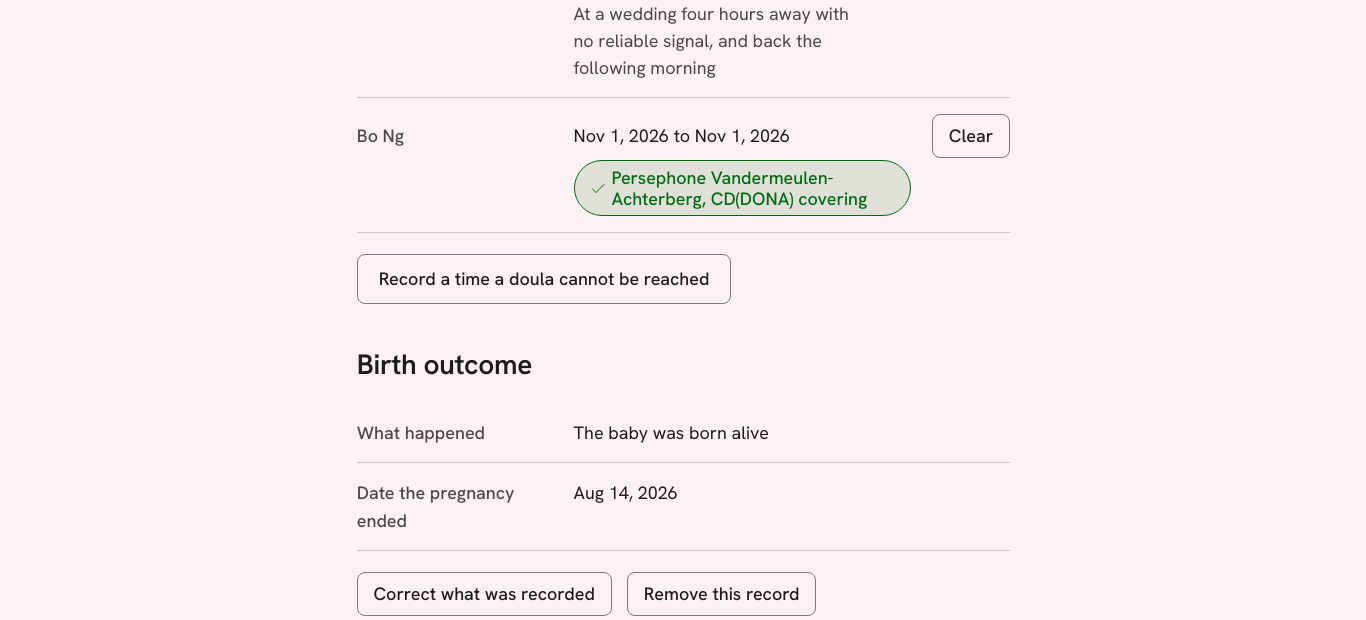
Scenario: the on-call section on a birth (#1093) › Doula who cannot be reached › refuses a gap with no Doula chosen, in the summary and against the field, and sends nothing
The width and height of the screenshot is (1366, 620).
(page scrolled)
Click the button "Record a time a doula cannot be reached" at (544, 279), box [357,254,731,304]
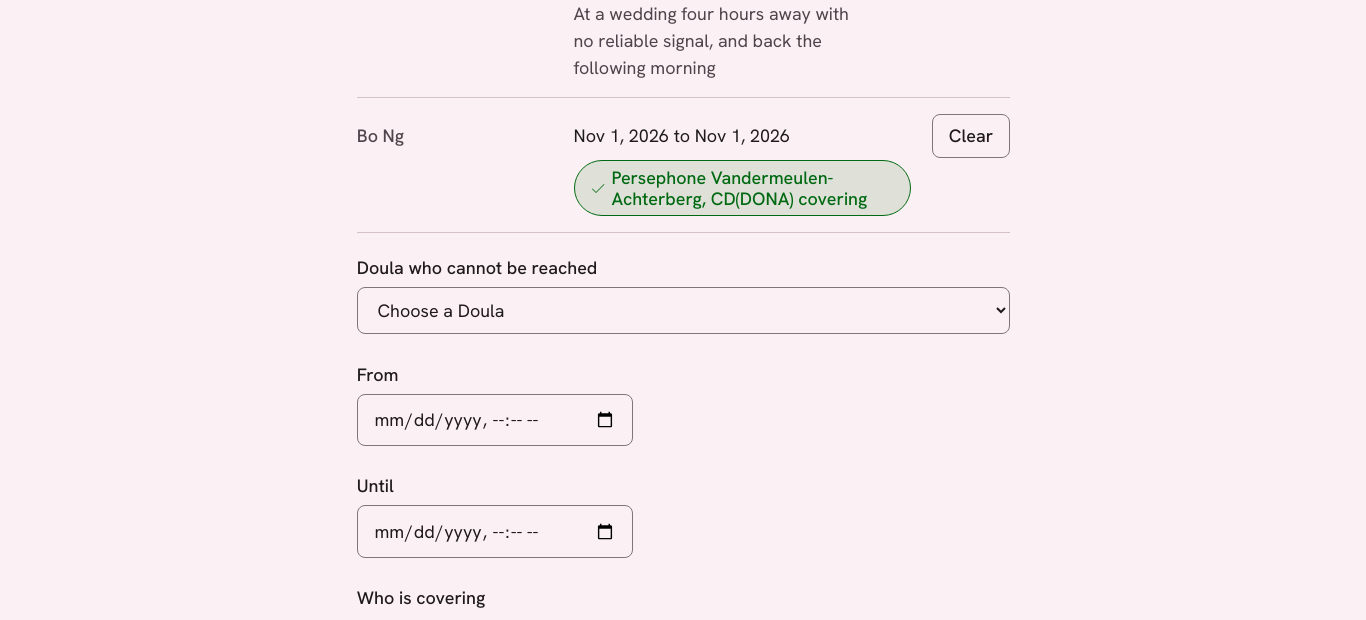
Type "2026-10-20T22:00" into the field labelled "From" at (495, 420), box [357,394,633,446]
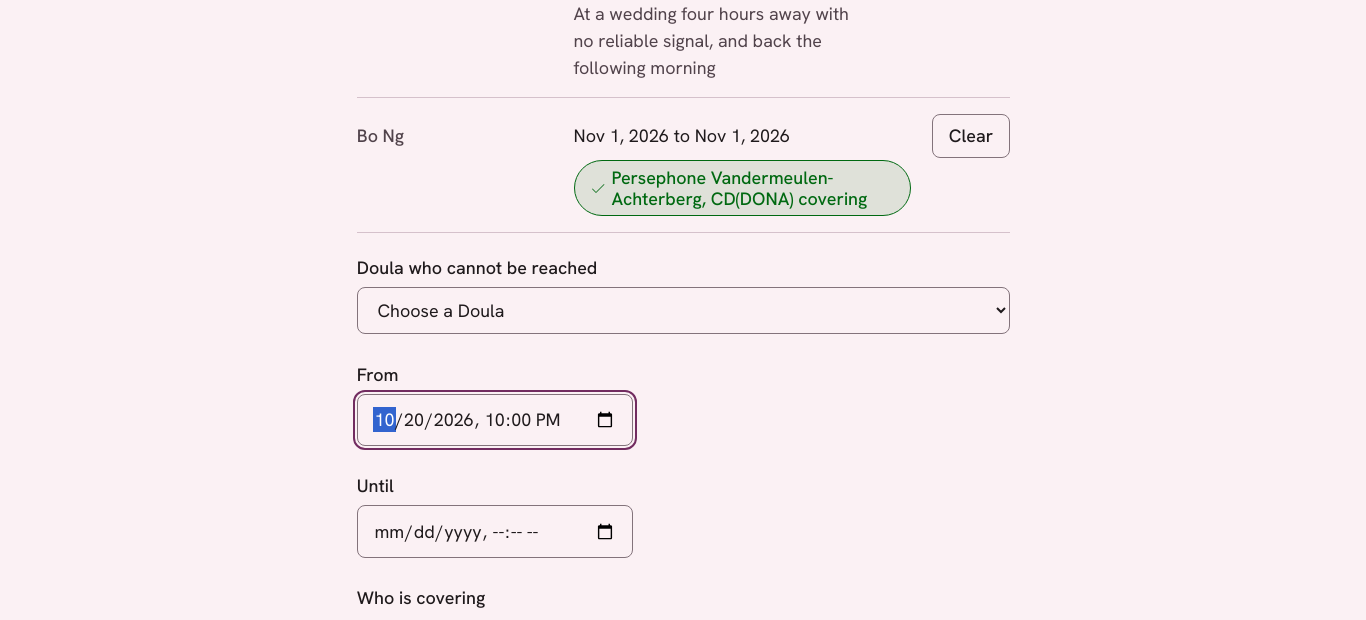
Type "2026-10-21T08:00" into the field labelled "Until" at (495, 532), box [357,505,633,558]
(page scrolled)
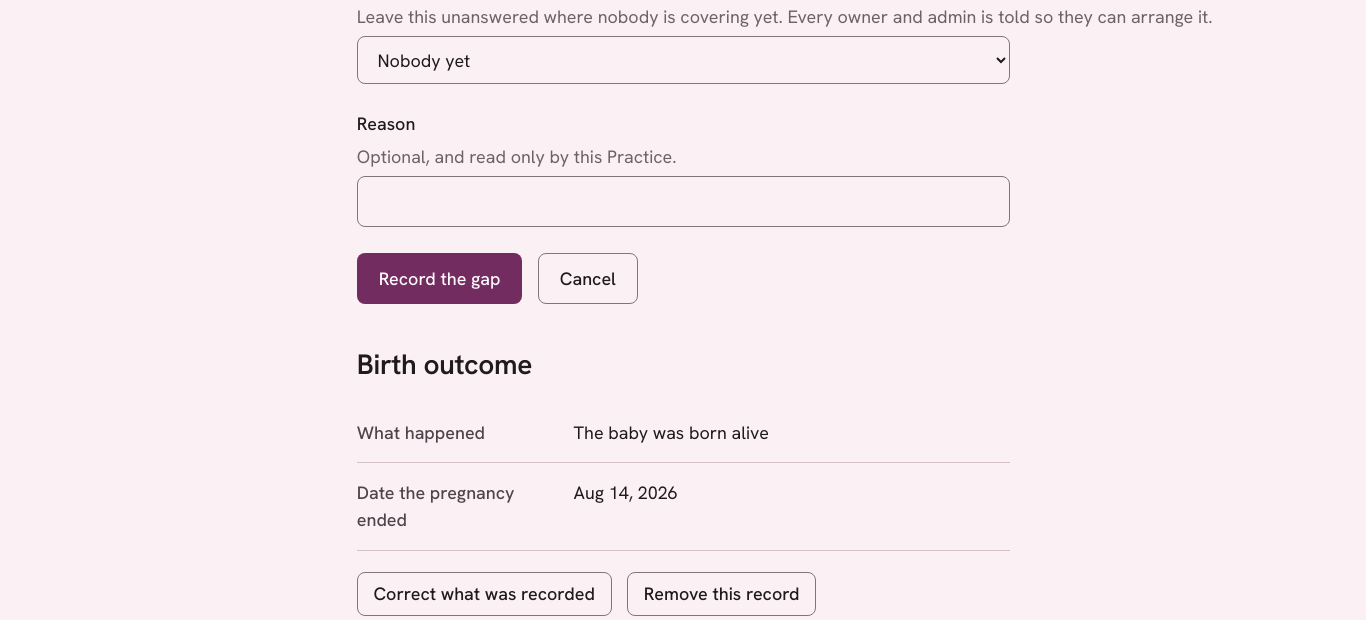
Click the button "Record the gap" at (440, 278), box [357,253,522,304]
(page scrolled)
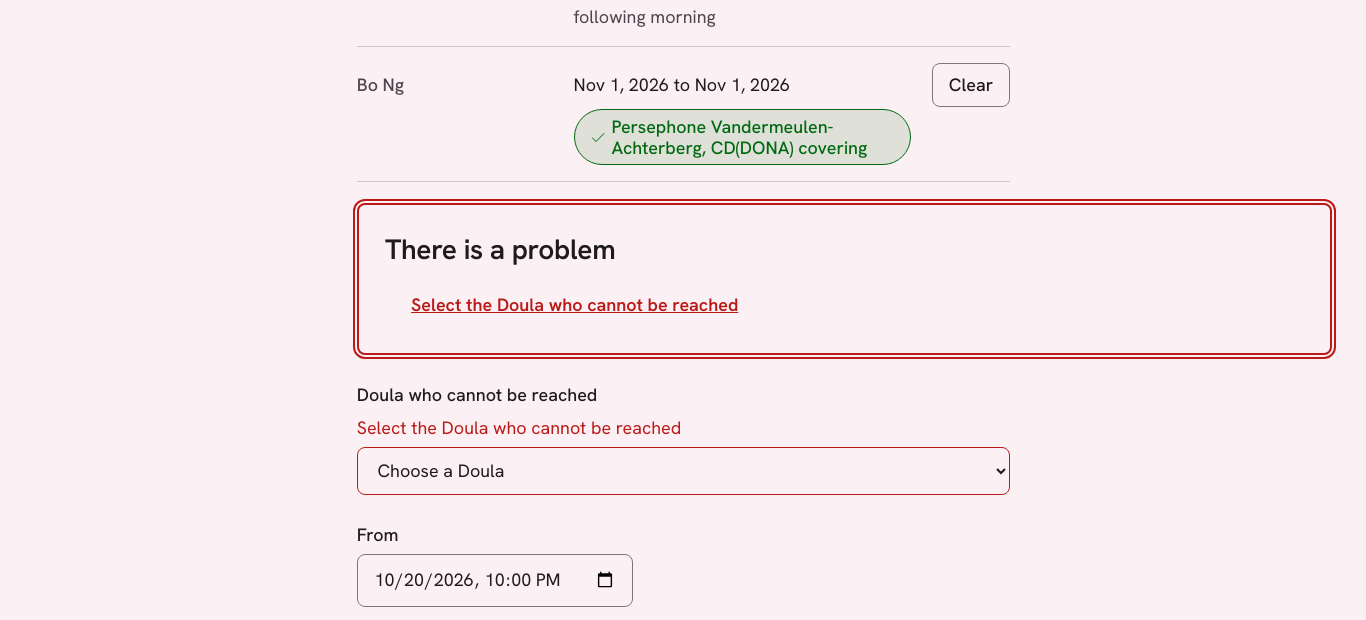
Expected: the text "Select the Doula who cannot be reached" is shown, [357,416,681,439]
